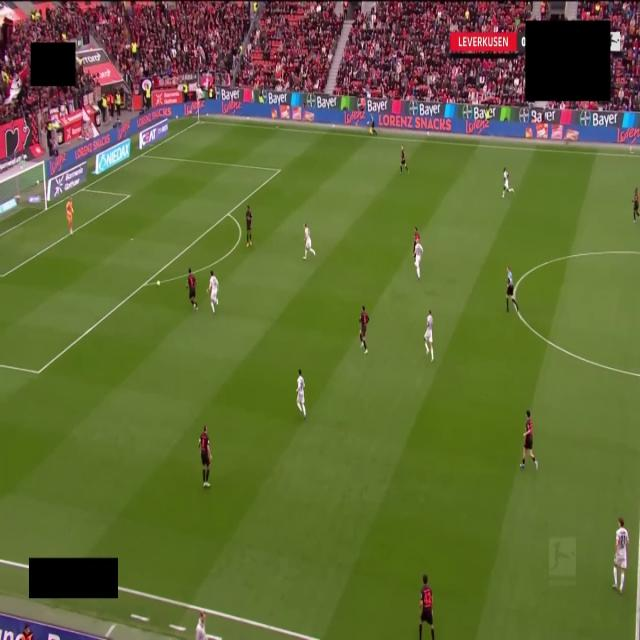ball: (157, 281, 160, 286)
player: (613, 518, 628, 593), (520, 410, 537, 469), (419, 574, 434, 639), (199, 426, 211, 487), (186, 268, 198, 310), (424, 310, 433, 361), (208, 271, 218, 313), (297, 369, 305, 419), (304, 224, 315, 259), (360, 305, 368, 353), (414, 242, 423, 280), (502, 168, 513, 199), (66, 198, 73, 234), (246, 206, 252, 247), (633, 188, 640, 222), (400, 146, 408, 174), (413, 227, 420, 251)
referee: (506, 268, 518, 310)
